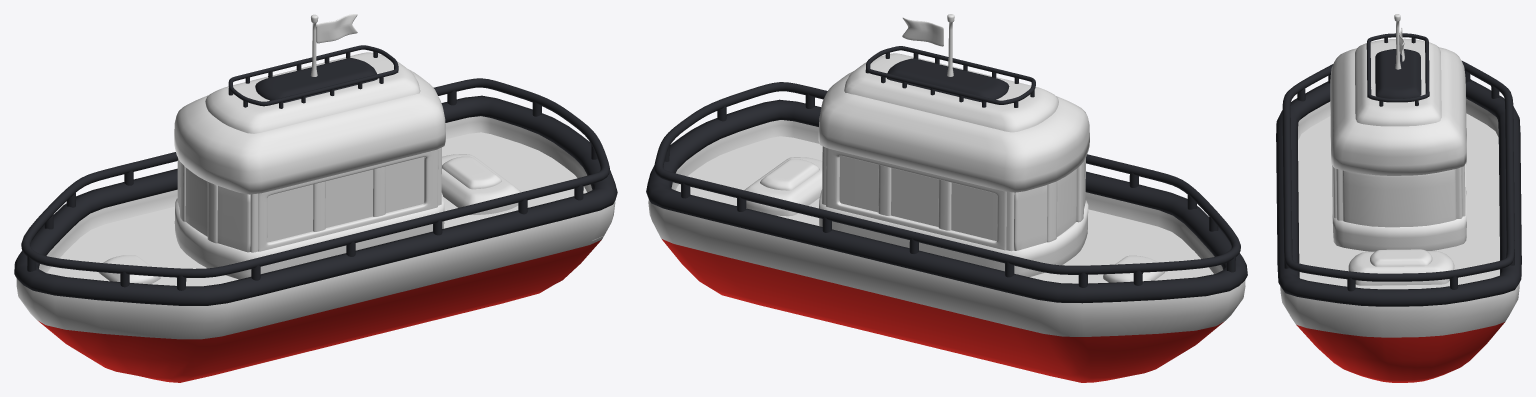
File: Boat.fbx
3 renders of one model, left to right at view 1: azimuth 30°, elevation 25°; view 2: azimuth 150°, elevation 25°; view 3: azimuth 270°, elevation 25°, orthographic. The views are drawn at different scales.
Parts seen in each view (by area): view 1: Cube.005; view 2: Cube.005; view 3: Cube.005.
Part boxes in pixels (box(x1,y1,x2,y2)): Cube.005: box(14, 14, 617, 382); Cube.005: box(646, 14, 1247, 382); Cube.005: box(1276, 14, 1521, 382).
Bounding box in the file's own units: 250 × 132 × 107.
